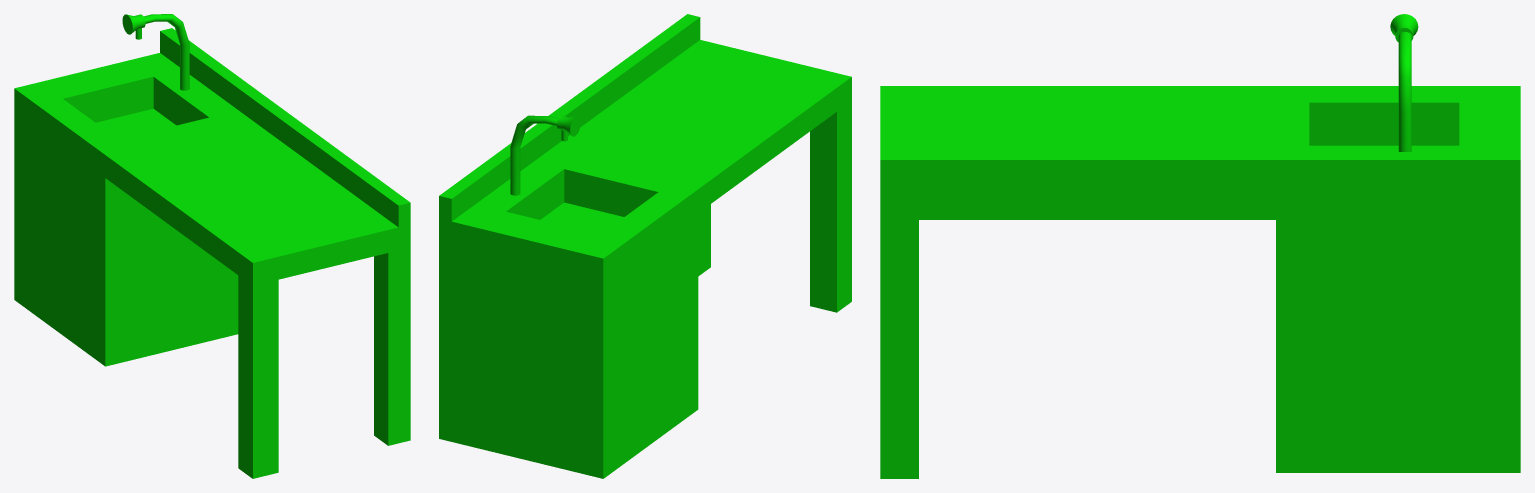
Rendered from Paillasse_de_chimie.fbx.
3 views of the same model, side by side, from view 1: azimuth 30°, elevation 25°; view 2: azimuth 150°, elevation 25°; view 3: azimuth 270°, elevation 25° (orthographic). The views are drawn at different scales.
Parts seen in each view (by area): view 1: paillasse_chimie; view 2: paillasse_chimie; view 3: paillasse_chimie.
Part boxes in pixels (<box>): paillasse_chimie: <box>14,14,410,478</box>; paillasse_chimie: <box>439,14,851,478</box>; paillasse_chimie: <box>880,14,1520,478</box>.
Bounding box in the file's own units: 0.8186 × 1.51 × 2.14.
